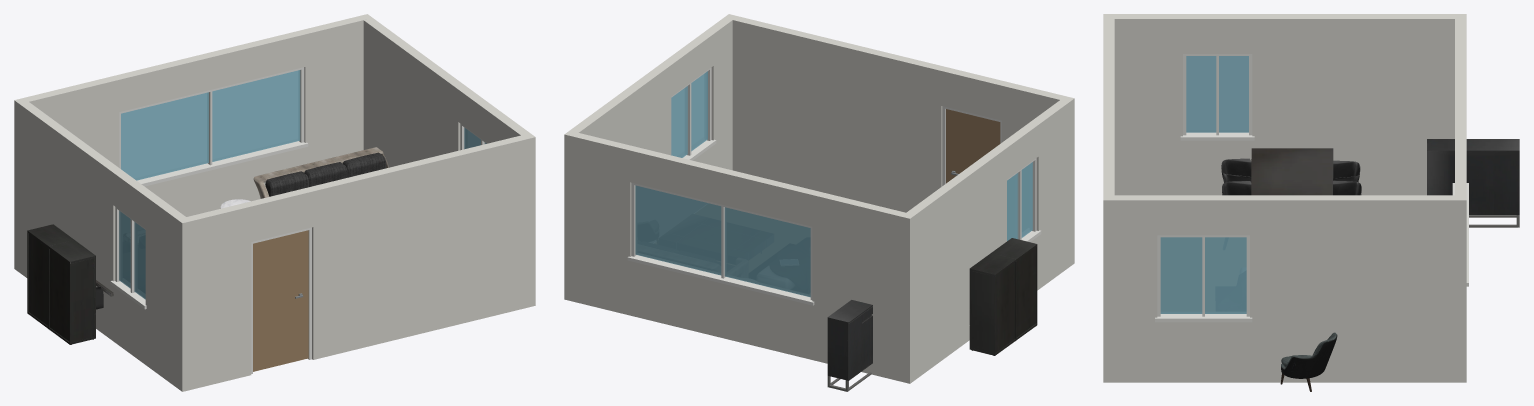
File: instructscene.glb
3 views of the same model, side by side, from view 1: azimuth 30°, elevation 25°; view 2: azimuth 150°, elevation 25°; view 3: azimuth 270°, elevation 25° (orthographic). The views are drawn at different scales.
Visible parts, largest first — view 1: wall|scenesmith_068__R00|0, wall|scenesmith_068__R00|1, wall|scenesmith_068__R00|2, wall|scenesmith_068__R00|3, wall|scenesmith_068__R00|1 Window 0 | glazing, wall|scenesmith_068__R00|0 Door 0 | wood leaf, raw_model.004, raw_model.007, wall|scenesmith_068__R00|1 Window 0 | jamb, wall|scenesmith_068__R00|2 Window 0 | glazing, wall|scenesmith_068__R00|2 Window 0 | jamb, wall|scenesmith_068__R00|0 Door 0 | jamb; view 2: wall|scenesmith_068__R00|1, wall|scenesmith_068__R00|0, wall|scenesmith_068__R00|2, wall|scenesmith_068__R00|1 Window 0 | glazing, wall|scenesmith_068__R00|3, raw_model.004, raw_model, wall|scenesmith_068__R00|1 Window 0 | jamb, wall|scenesmith_068__R00|0 Door 0 | wood leaf, wall|scenesmith_068__R00|3 Window 0 | glazing, wall|scenesmith_068__R00|2 Window 0 | glazing, wall|scenesmith_068__R00|3 Window 0 | jamb (+2 smaller); view 3: wall|scenesmith_068__R00|3, wall|scenesmith_068__R00|2, wall|scenesmith_068__R00|3 Window 0 | glazing, raw_model, wall|scenesmith_068__R00|2 Window 0 | glazing, wall|scenesmith_068__R00|1, wall|scenesmith_068__R00|0, raw_model.005, solid, wall|scenesmith_068__R00|3 Window 0 | jamb, wall|scenesmith_068__R00|2 Window 0 | jamb, raw_model.001.
Part boxes in pixels (x1,y1,x2,y2): wall|scenesmith_068__R00|0: (177,135,526,391); wall|scenesmith_068__R00|1: (14,14,372,272); wall|scenesmith_068__R00|2: (14,98,191,391); wall|scenesmith_068__R00|3: (363,18,535,307); wall|scenesmith_068__R00|1 Window 0 | glazing: (121,70,300,180); wall|scenesmith_068__R00|0 Door 0 | wood leaf: (253,230,308,371); raw_model.004: (27,224,95,344); raw_model.007: (253,147,388,198); wall|scenesmith_068__R00|1 Window 0 | jamb: (119,67,308,186); wall|scenesmith_068__R00|2 Window 0 | glazing: (119,210,145,299); wall|scenesmith_068__R00|2 Window 0 | jamb: (110,207,146,309); wall|scenesmith_068__R00|0 Door 0 | jamb: (251,227,311,373); wall|scenesmith_068__R00|1: (564,130,915,383); wall|scenesmith_068__R00|0: (732,16,1074,266); wall|scenesmith_068__R00|2: (901,96,1074,379); wall|scenesmith_068__R00|1 Window 0 | glazing: (635,185,810,297); wall|scenesmith_068__R00|3: (570,14,737,170); raw_model.004: (969,238,1037,355); raw_model: (827,300,872,391); wall|scenesmith_068__R00|1 Window 0 | jamb: (627,182,814,305); wall|scenesmith_068__R00|0 Door 0 | wood leaf: (946,109,1000,183); wall|scenesmith_068__R00|3 Window 0 | glazing: (671,71,707,157); wall|scenesmith_068__R00|2 Window 0 | glazing: (1007,162,1032,240); wall|scenesmith_068__R00|3 Window 0 | jamb: (671,67,716,160); wall|scenesmith_068__R00|3: (1103,195,1454,382); wall|scenesmith_068__R00|2: (1103,14,1466,195); wall|scenesmith_068__R00|3 Window 0 | glazing: (1160,237,1246,313); raw_model: (1427,139,1519,227); wall|scenesmith_068__R00|2 Window 0 | glazing: (1186,56,1248,132); wall|scenesmith_068__R00|1: (1455,19,1466,382); wall|scenesmith_068__R00|0: (1103,19,1114,382); raw_model.005: (1251,148,1333,195); solid: (1221,158,1361,195); wall|scenesmith_068__R00|3 Window 0 | jamb: (1155,235,1252,322); wall|scenesmith_068__R00|2 Window 0 | jamb: (1180,54,1254,140); raw_model.001: (1280,332,1337,391).
Bounding box in the file's own units: 6.64 × 2.62 × 5.39.
Materials: 16 (10 with a texture image).
